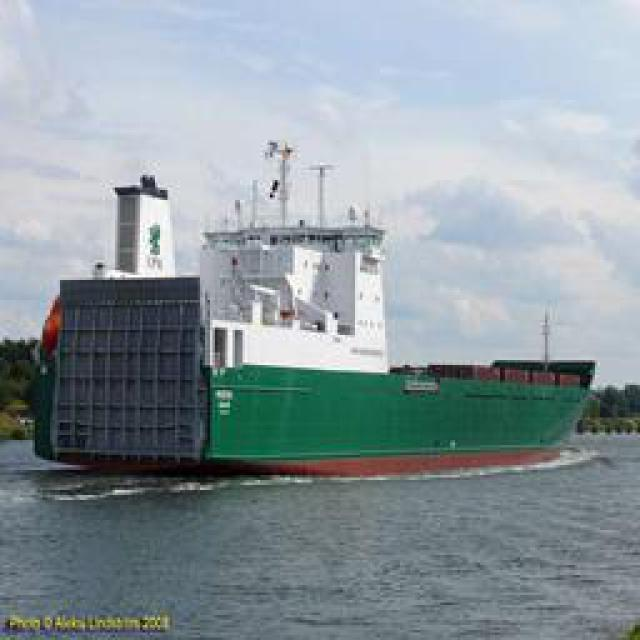Ship: (39, 161, 594, 481)
